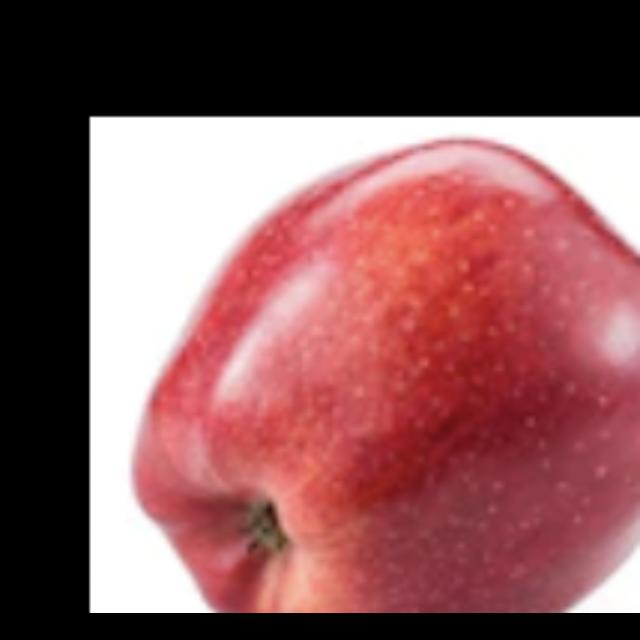Apel Segar: (132, 140, 640, 612)
